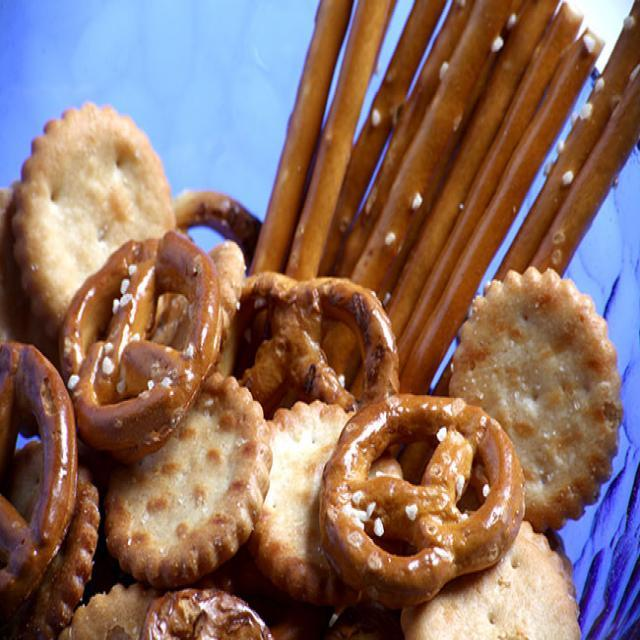Salatini: (10, 33, 626, 636)
